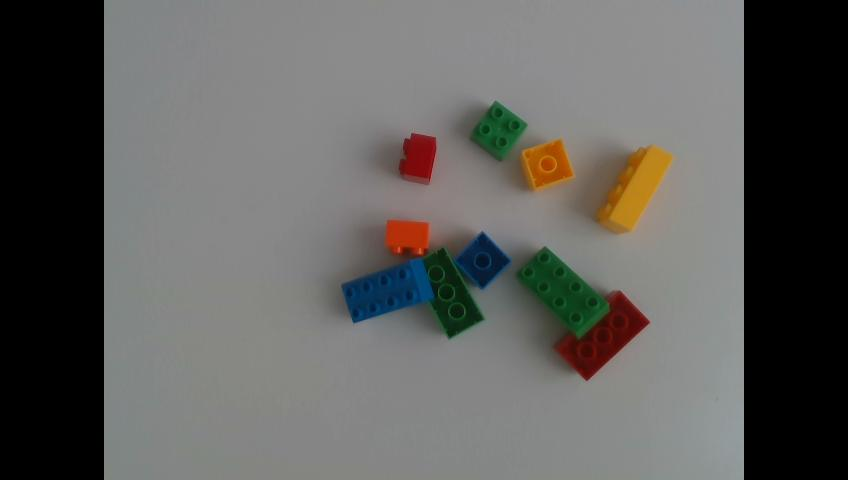2x2_blue: (455, 230, 511, 290)
2x2_green: (471, 99, 527, 159)
2x2_orange: (387, 219, 428, 255)
2x2_red: (400, 132, 435, 182)
2x2_yellow: (517, 137, 574, 195)
4x2_blue: (341, 258, 432, 325)
4x2_green: (519, 245, 607, 335), (422, 247, 485, 342)
4x2_red: (556, 290, 651, 380)
4x2_yellow: (599, 144, 673, 233)
